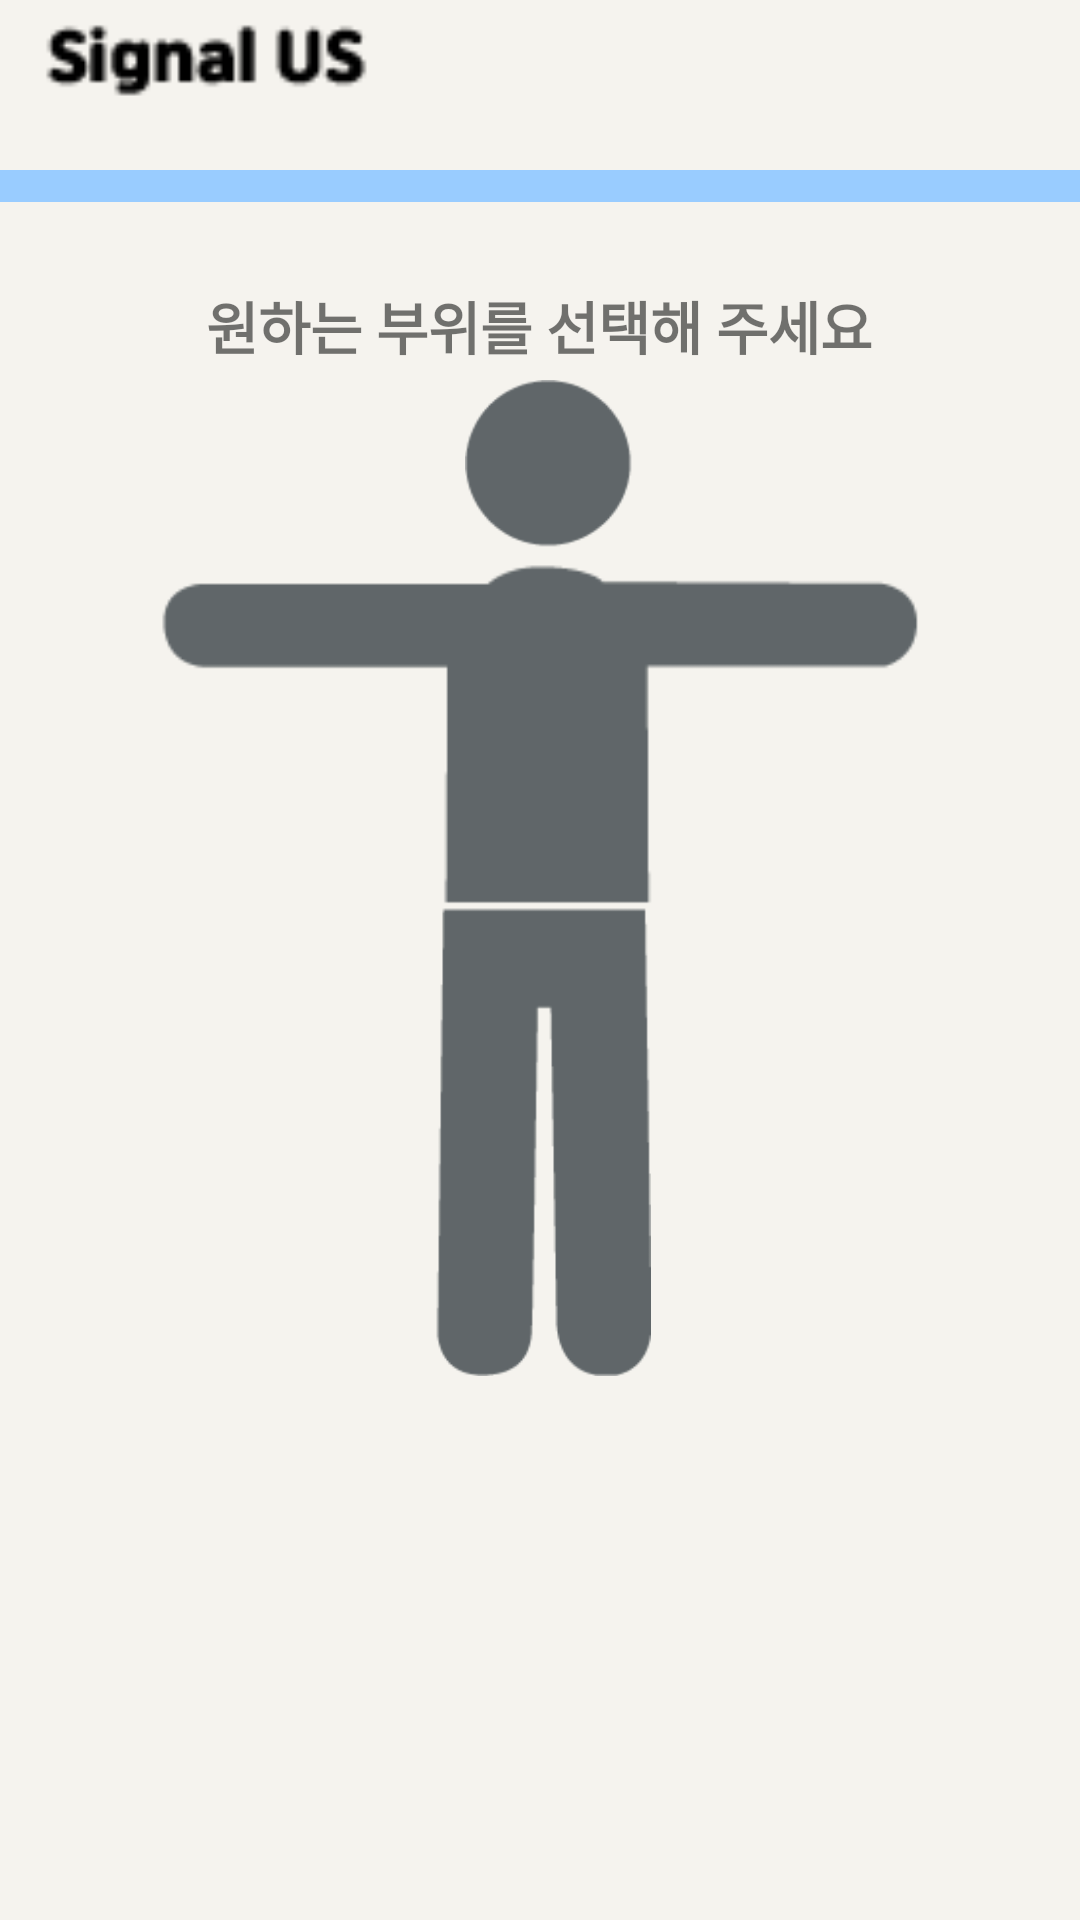

Screen size 1080 x 1920. Icon name, then its center in pixels as point (x, y):
body head: point (548, 463)
